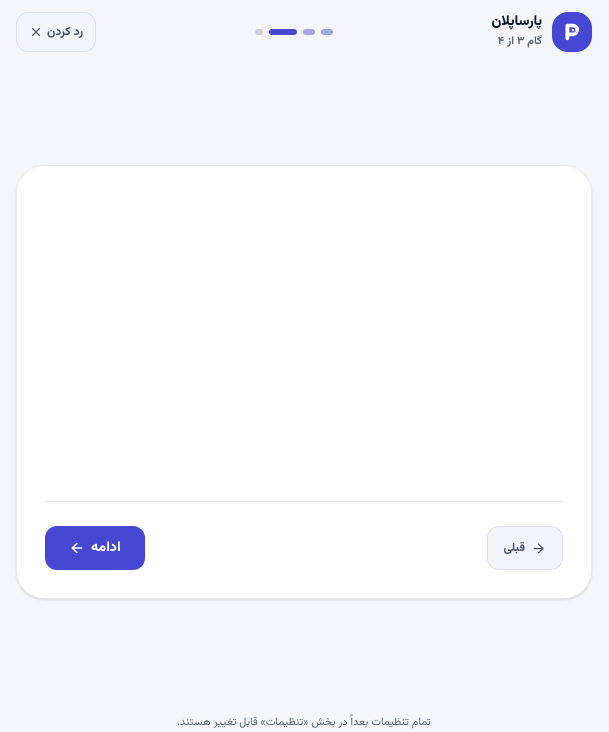
Scenario: Phase 2 Enhancements — SlideToComplete, Mobile Calendar, Welcome Carousel & Vercel Gemini API › Welcome renders 4-slide skippable onboarding carousel and applies settings cleanly
Earlier steps of the test are not shown.
Later steps or results of the test are not shown.
Click the button "ادامه" at (95, 548), box x1=45 y1=526 x2=145 y2=570
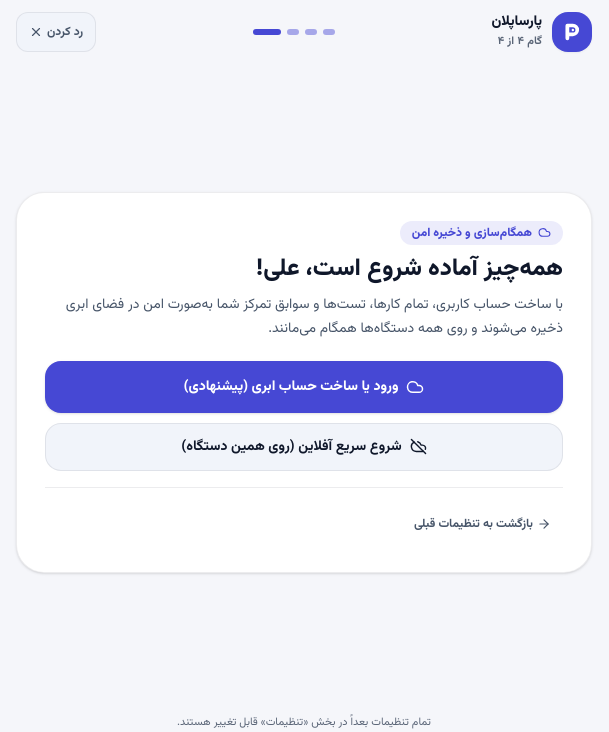
Expected: the text "گام ۴ از ۴" is shown, x1=492 y1=32 x2=542 y2=52
